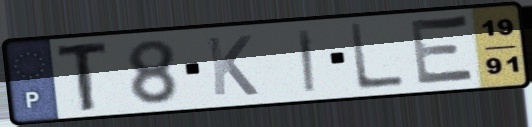8: (122, 37, 180, 107)
E: (408, 13, 480, 88)
I: (295, 27, 318, 95)
K: (204, 33, 262, 98)
L: (346, 20, 407, 93)
T: (54, 38, 112, 114)
